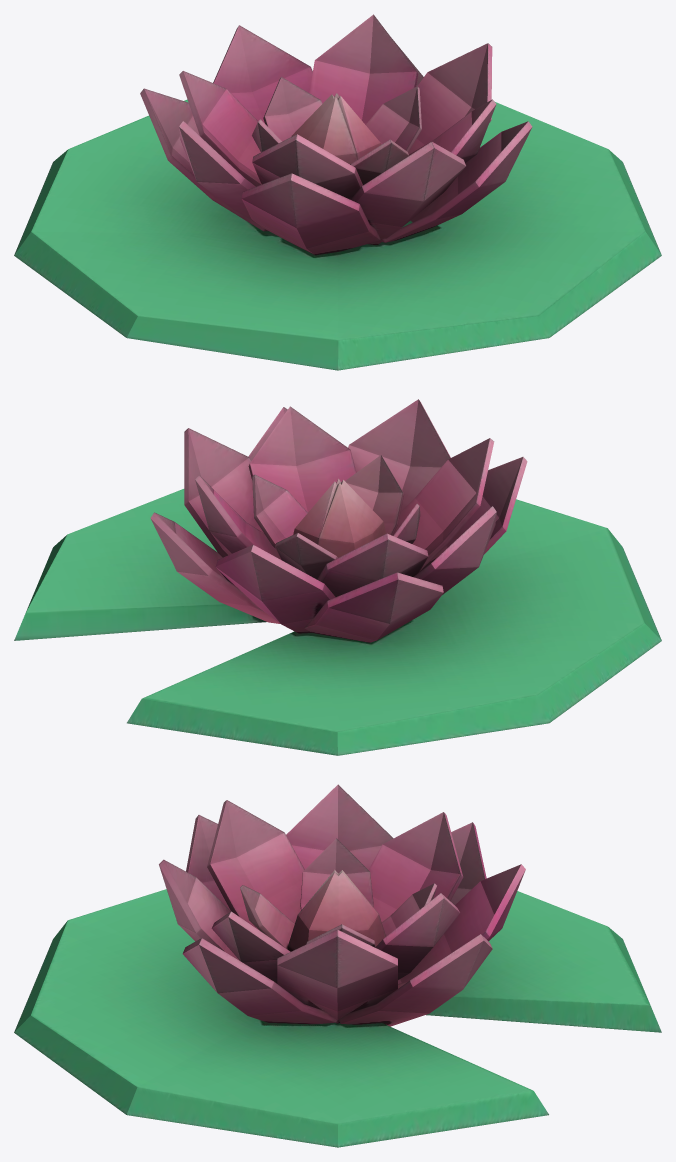
Rendered from Lilypad.glb.
The picture shows the model from 3 angles, top to bottom: view 1: azimuth 30°, elevation 25°; view 2: azimuth 150°, elevation 25°; view 3: azimuth 270°, elevation 25°; orthographic projection.
Parts seen in each view (by area): view 1: Lilypad_mesh; view 2: Lilypad_mesh; view 3: Lilypad_mesh.
Boxes of the visible parts, x1,y1,x2,y2 form: Lilypad_mesh: (14, 14, 661, 370); Lilypad_mesh: (14, 399, 661, 755); Lilypad_mesh: (14, 784, 661, 1147).
Size of the model in its own units: 10.71 by 3 by 10.88.
1 material, 1 textured.
